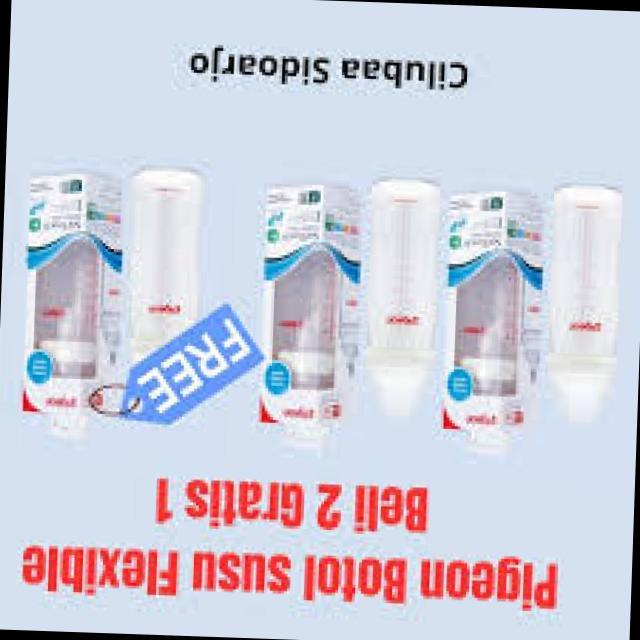good: (92, 140, 251, 409), (336, 170, 472, 428), (512, 160, 636, 432)
